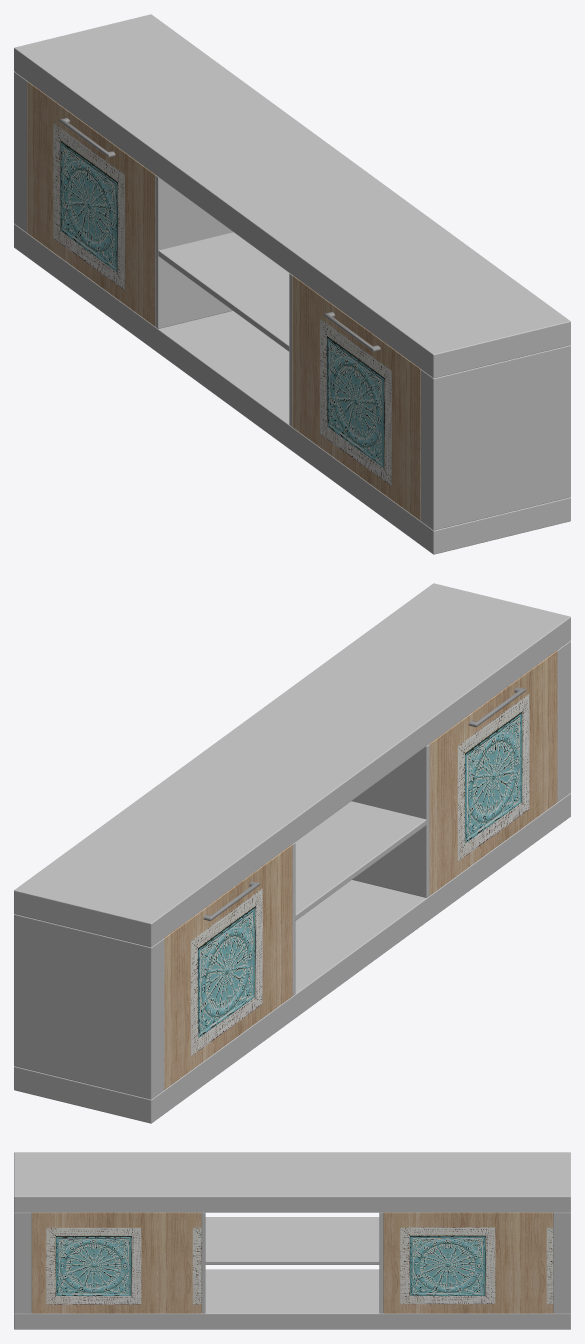
Rendered from Cabinet 2.FBX.
3 renders of one model, top to bottom at view 1: azimuth 30°, elevation 25°; view 2: azimuth 150°, elevation 25°; view 3: azimuth 270°, elevation 25°, orthographic. The views are drawn at different scales.
Visible parts, largest first — view 1: cabinet; view 2: cabinet; view 3: cabinet.
Boxes of the visible parts, box(x1,y1,x2,y2) form: cabinet: box(14, 14, 570, 554); cabinet: box(14, 583, 570, 1123); cabinet: box(14, 1152, 570, 1329).
Size of the model in its own units: 44.3 by 58.31 by 222.
